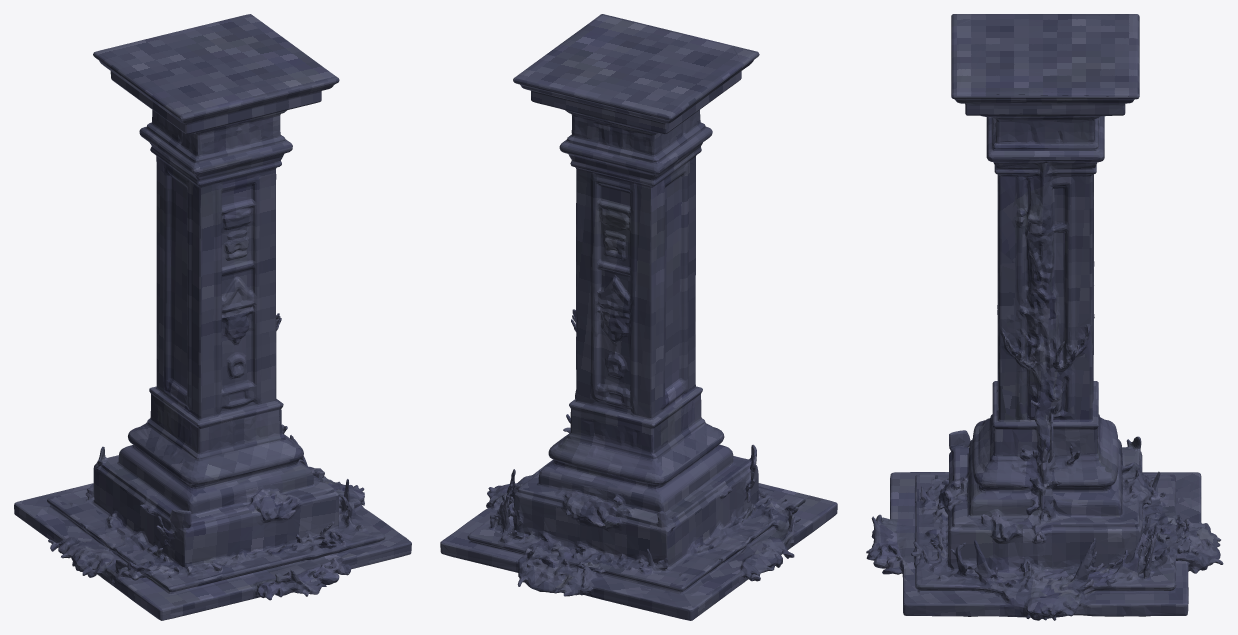
File: weathered-monolith-pillar-generated-2026-04-19T23-42-40-008Z.high.glb
3 views of the same model, side by side, from view 1: azimuth 30°, elevation 25°; view 2: azimuth 150°, elevation 25°; view 3: azimuth 270°, elevation 25° (orthographic). The views are drawn at different scales.
Parts seen in each view (by area): view 1: temp_mesh.ply; view 2: temp_mesh.ply; view 3: temp_mesh.ply.
Part boxes in pixels (bbox=[...]): temp_mesh.ply: bbox=[14, 14, 411, 620]; temp_mesh.ply: bbox=[440, 14, 837, 620]; temp_mesh.ply: bbox=[866, 14, 1223, 620].
Bounding box in the file's own units: 1.28 × 1.97 × 1.28.
Materials: 1 (1 with a texture image).
